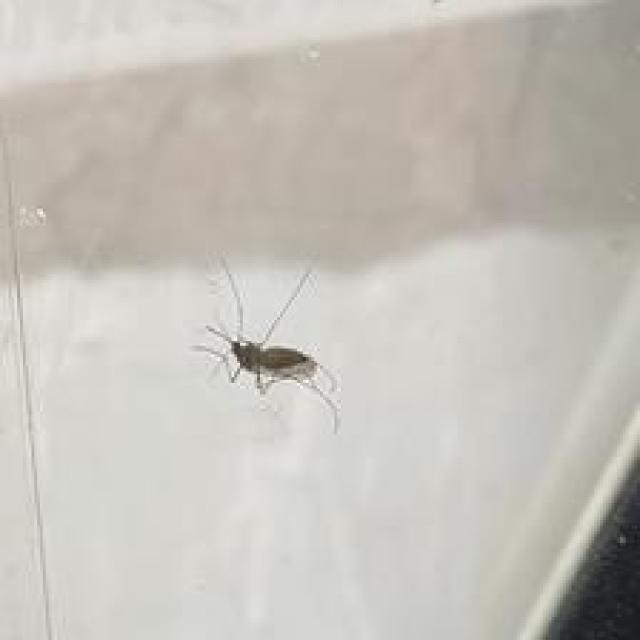Culex: (193, 255, 341, 434)
